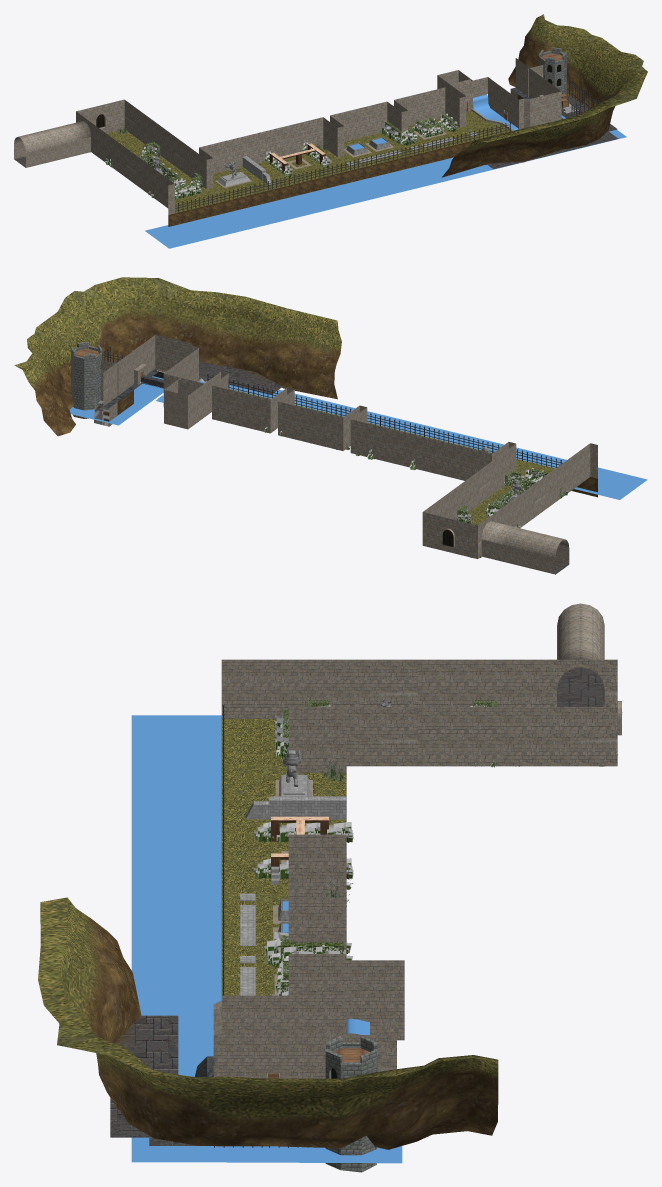
Rendered from Cenario.fbx.
The picture shows the model from 3 angles, top to bottom: view 1: azimuth 30°, elevation 25°; view 2: azimuth 150°, elevation 25°; view 3: azimuth 270°, elevation 25°; orthographic projection. The views are drawn at different scales.
Parts seen in each view (by area): view 1: Plane, Rio, Grama.002, Grama.048, Cachoeira_2, Grama.024; view 2: Plane, Rio, Grama.048; view 3: Plane, Rio, Grama.024, Grama.002.
Boxes of the visible parts, bbox=[...] form: Plane: bbox=[14, 14, 647, 226]; Rio: bbox=[145, 115, 626, 248]; Grama.002: bbox=[381, 113, 457, 145]; Grama.048: bbox=[105, 125, 202, 199]; Cachoeira_2: bbox=[473, 94, 518, 130]; Grama.024: bbox=[265, 142, 329, 176]; Plane: bbox=[14, 277, 597, 574]; Rio: bbox=[69, 376, 647, 499]; Grama.048: bbox=[455, 468, 568, 557]; Plane: bbox=[38, 603, 621, 1172]; Rio: bbox=[131, 715, 402, 1163]; Grama.024: bbox=[254, 822, 353, 879]; Grama.002: bbox=[264, 931, 352, 995].
Size of the model in its own units: 5113 by 630 by 2464.
